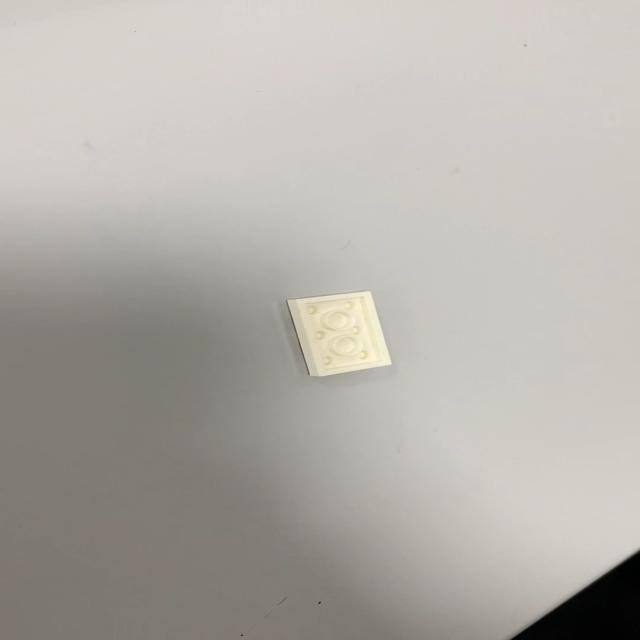C3x2x0: (284, 290, 392, 377)
